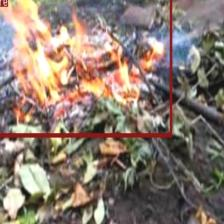fire: (0, 0, 172, 136)
